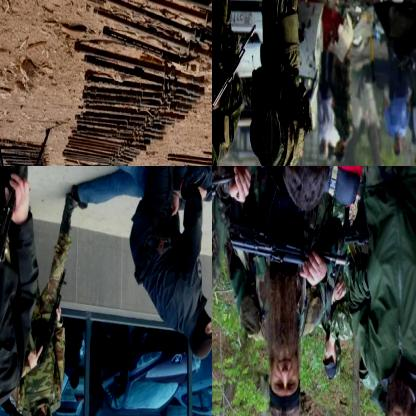rifle: (228, 174, 352, 274), (0, 166, 36, 354), (212, 20, 258, 107), (30, 265, 69, 366)
